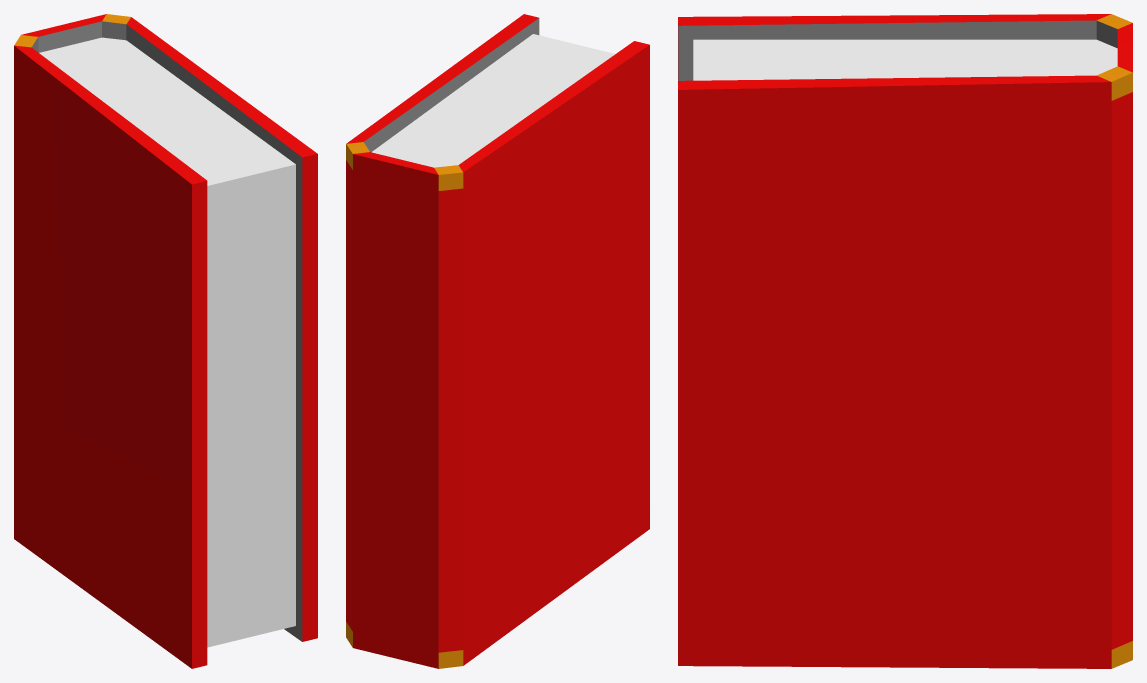
Rendered from Book.FBX.
3 renders of one model, left to right at view 1: azimuth 30°, elevation 25°; view 2: azimuth 150°, elevation 25°; view 3: azimuth 270°, elevation 25°, orthographic. The views are drawn at different scales.
Visible parts, largest first — view 1: Box001; view 2: Box001; view 3: Box001.
Boxes of the visible parts, x1,y1,x2,y2 form: Box001: (14, 14, 317, 668); Box001: (346, 14, 649, 668); Box001: (678, 14, 1132, 668).
Bounding box in the file's own units: 16.23 × 60.86 × 42.7.
